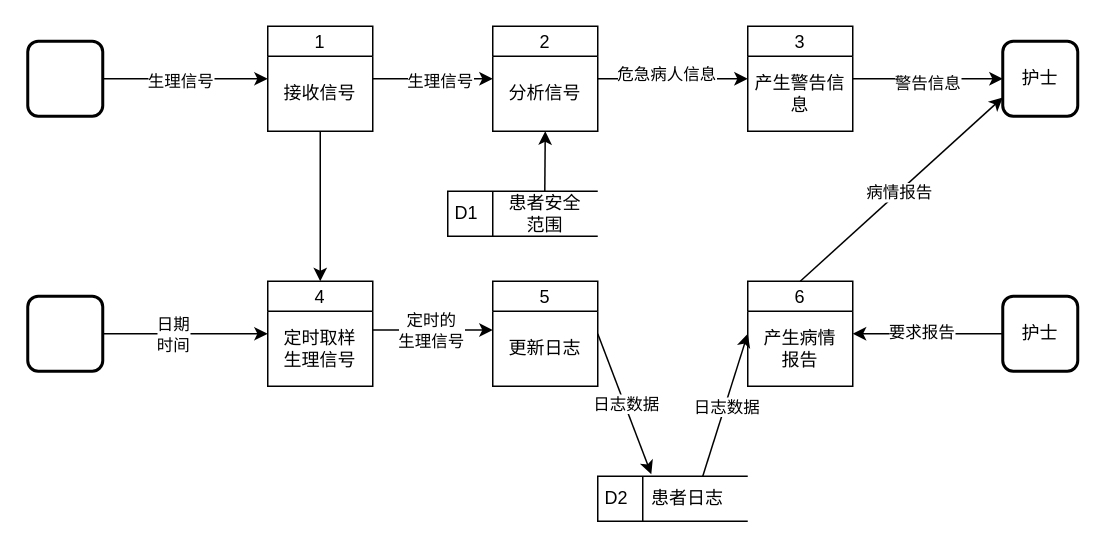
Some shapes in this 1104 by 548 pixel diagram are drawn without their labels. The shapes that lost their labels are listed below. From the top down, each one's centre as x and y in pixels, then its label:
At pixel 65 78: "病人".
At pixel 65 333: "时钟".
